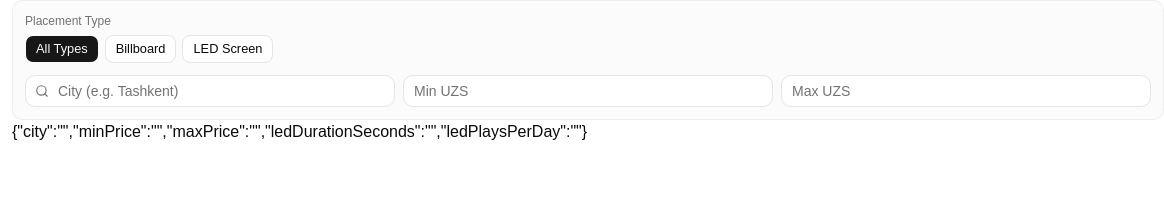
Test case: PlacementFilters › shows the reset bar once a filter is active
Step 1. Click the button "Billboard" → (141, 49), box [105,35,176,63]
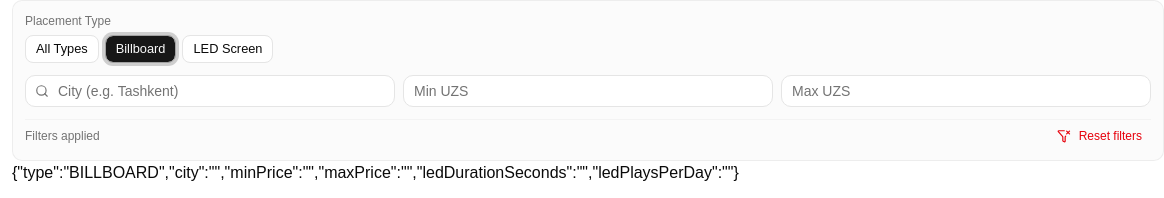
Result: the text "Filters applied" is shown at [25,128,100,144]
Result: the button "Reset filters" is shown at [1048,124,1151,148]
